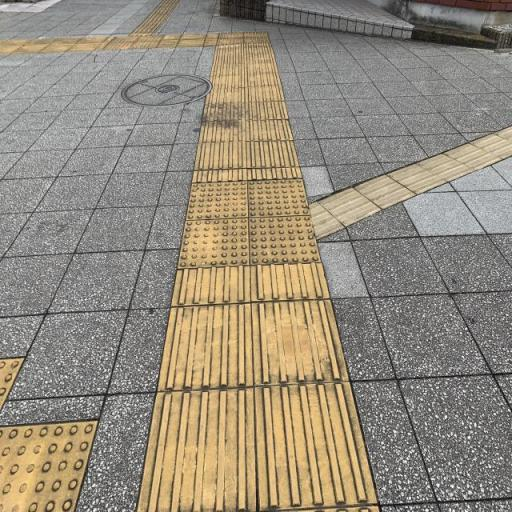dot: (178, 218, 250, 268), (249, 216, 321, 265), (184, 181, 249, 220), (248, 178, 310, 217)
line: (254, 381, 379, 511), (134, 387, 257, 511), (155, 303, 254, 392), (253, 298, 350, 387), (171, 265, 250, 307), (250, 263, 331, 300), (318, 186, 381, 226), (353, 175, 417, 209), (194, 141, 247, 170), (247, 141, 300, 168)
